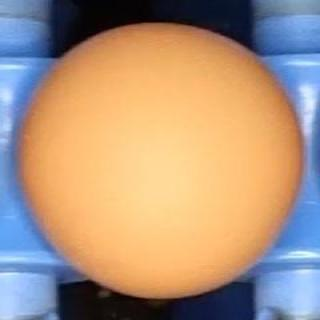Telur: (12, 21, 305, 302)
